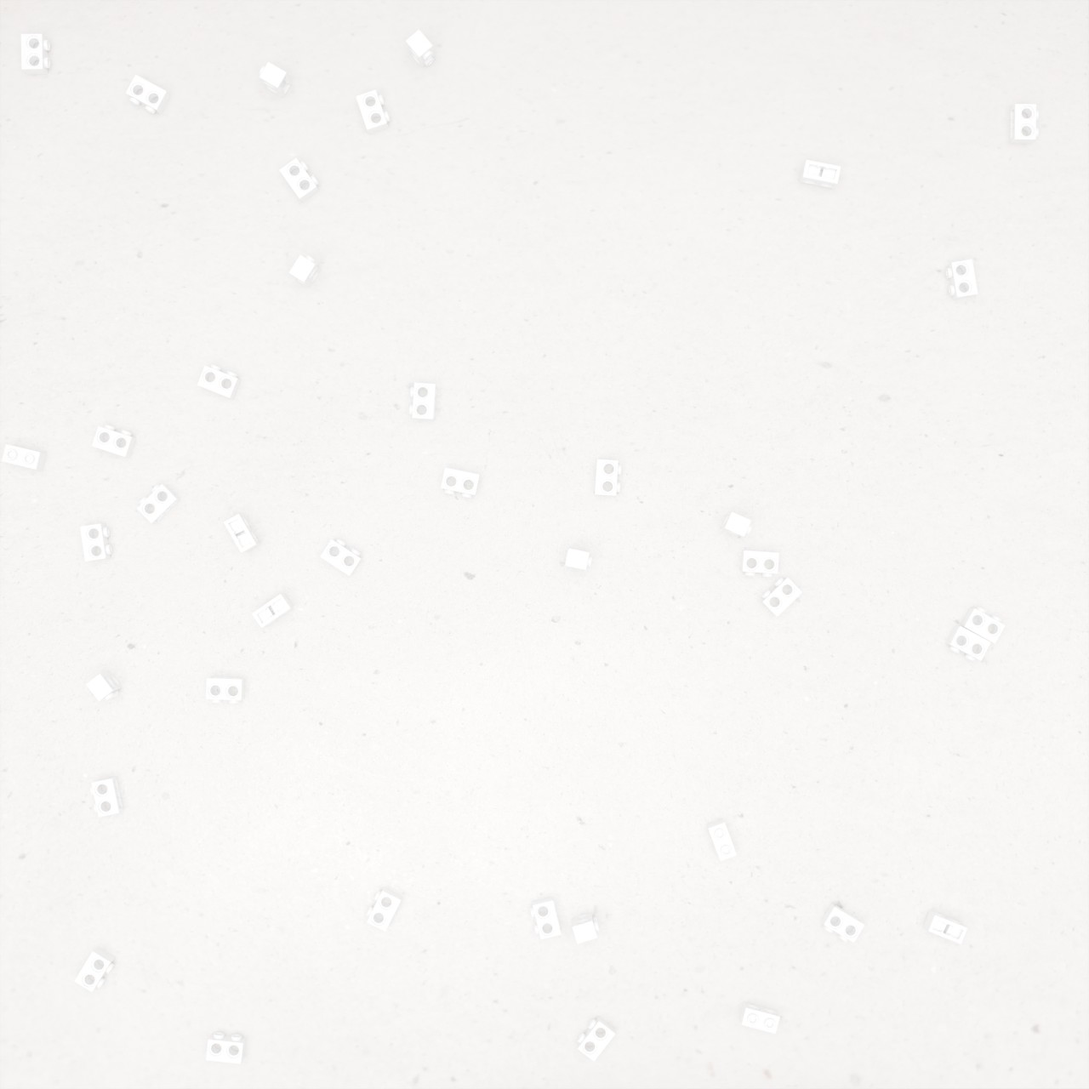lego: (74, 947, 115, 992), (126, 74, 171, 115), (576, 1016, 616, 1062), (279, 158, 319, 203), (137, 484, 181, 524), (821, 903, 865, 943), (960, 606, 1006, 644), (760, 577, 803, 617), (946, 625, 991, 662), (366, 887, 403, 932), (320, 538, 363, 576), (197, 364, 241, 400), (923, 910, 968, 945), (356, 90, 390, 135), (251, 593, 294, 628), (92, 424, 136, 458), (223, 514, 260, 553), (90, 776, 124, 817), (530, 896, 561, 940), (739, 1001, 780, 1034), (945, 259, 978, 300), (706, 819, 737, 862), (206, 1032, 247, 1064), (21, 34, 51, 75), (799, 160, 841, 189), (80, 524, 112, 562), (2, 444, 47, 471), (441, 467, 480, 498), (1009, 104, 1039, 144), (259, 62, 292, 98), (405, 29, 435, 68), (86, 671, 123, 701), (409, 383, 437, 421), (289, 255, 321, 288), (206, 677, 245, 704), (740, 550, 779, 577), (594, 459, 621, 496), (571, 912, 600, 944), (721, 512, 752, 537), (565, 548, 592, 570)
